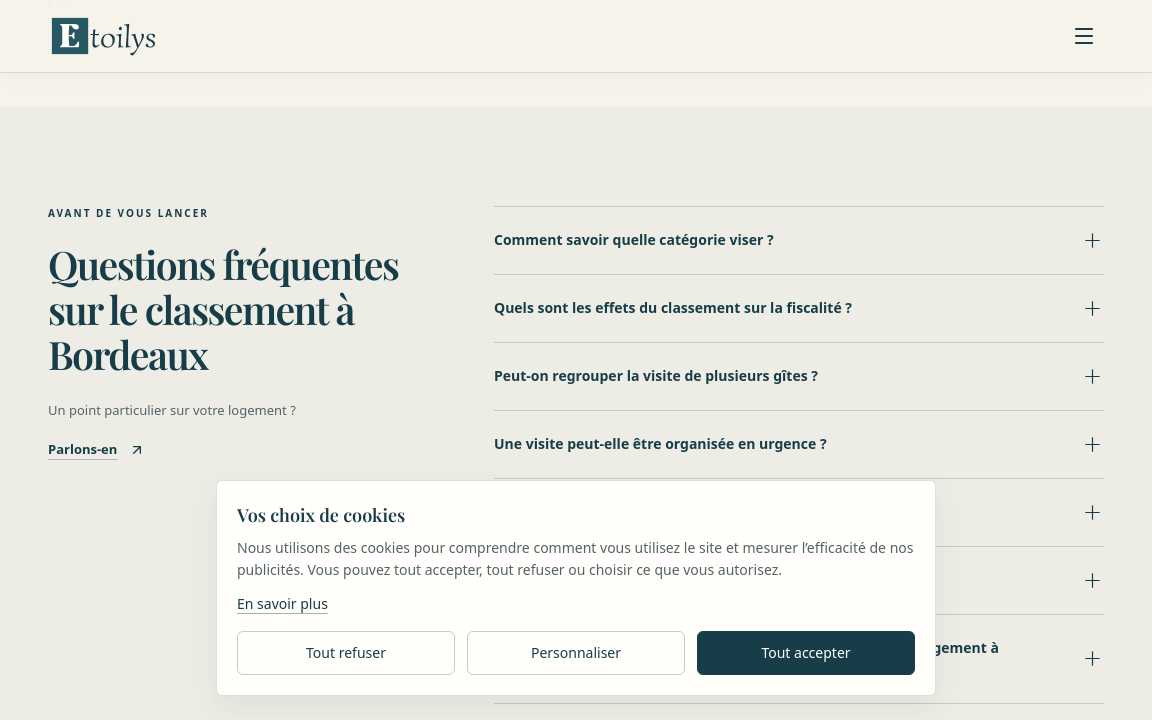
Test: ClassementBordeaux › renders Bordeaux with V6 surfaces and preserves tax plus local notice
This screenshot has width=1152, height=720.
(page scrolled)
Click the button "Comment savoir quelle catégorie viser ?": {"x": 634, "y": 239} [494, 207, 1104, 274]
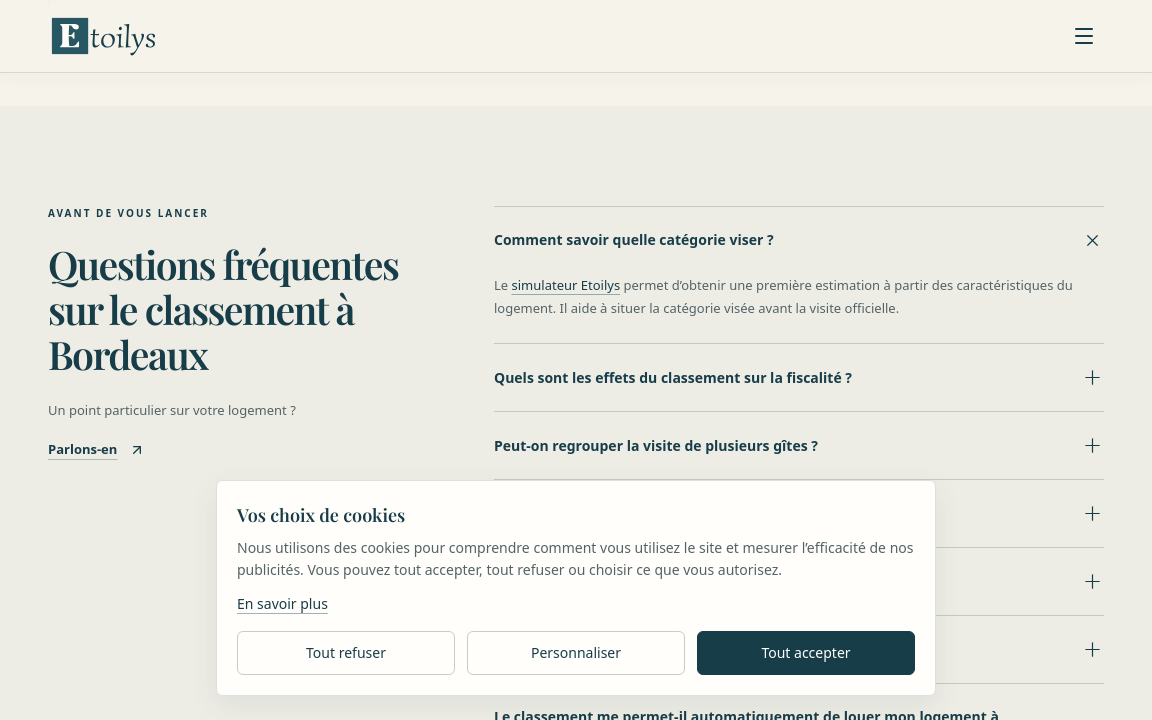
Click the button "Quels sont les effets du classement sur la fiscalité ?": {"x": 799, "y": 378} [494, 344, 1104, 411]
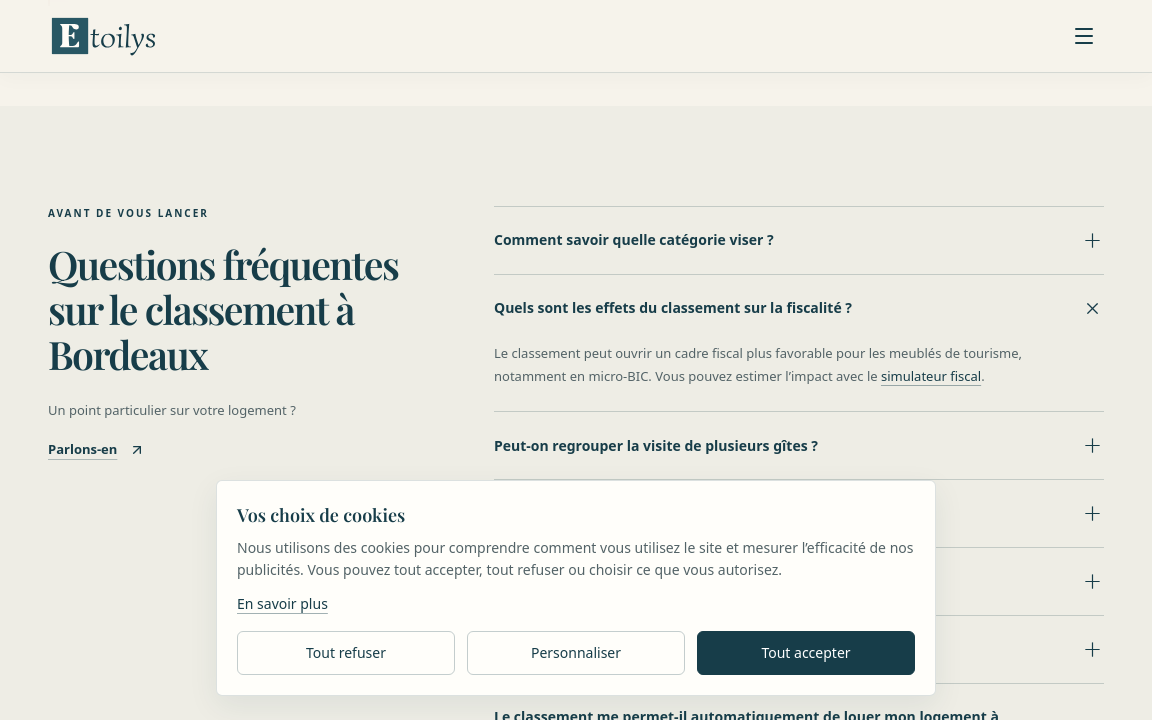
Expected: the link "simulateur fiscal" has attribute href="/simulateur-fiscal-classement", [881, 367, 981, 385]
